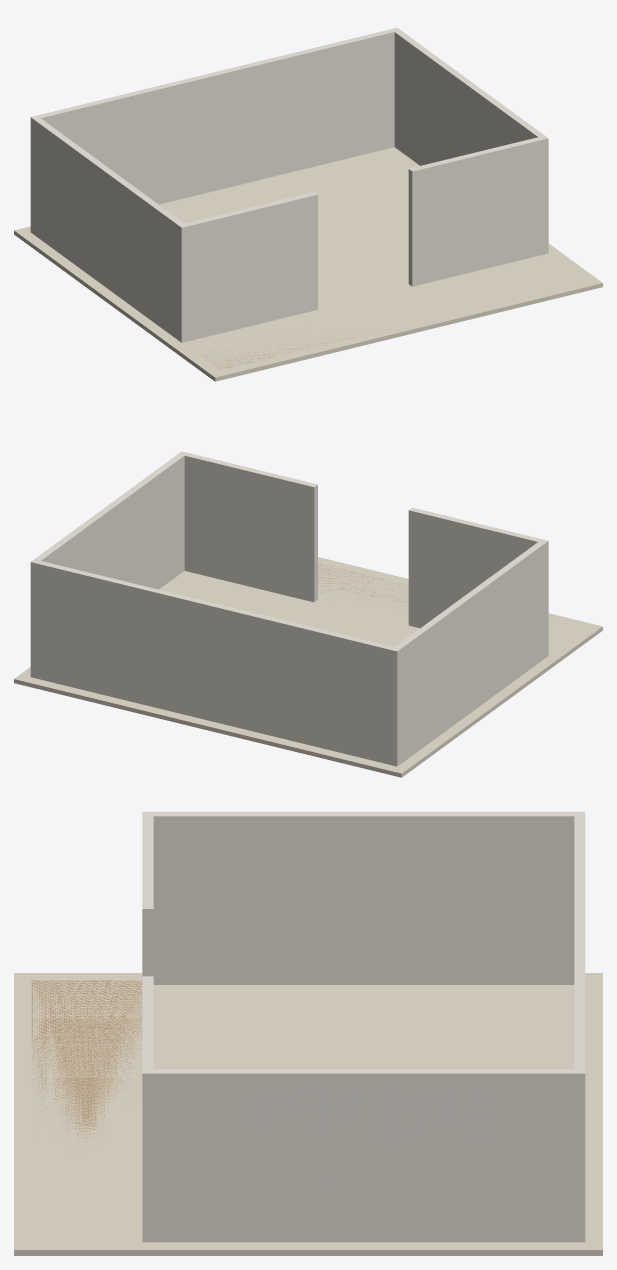
The model's file is events-gatherings-hub.glb.
The picture shows the model from 3 angles, top to bottom: view 1: azimuth 30°, elevation 25°; view 2: azimuth 150°, elevation 25°; view 3: azimuth 270°, elevation 25°; orthographic projection. The views are drawn at different scales.
Parts seen in each view (by area): view 1: stucco, stone; view 2: stucco, stone, timber; view 3: stucco, stone, timber, glass.
Boxes of the visible parts, x1,y1,x2,y2 form: stucco: (30, 27, 548, 342); stone: (14, 147, 602, 381); stucco: (30, 451, 548, 766); stone: (14, 557, 602, 777); timber: (318, 563, 407, 604); stucco: (142, 811, 585, 1242); stone: (14, 973, 602, 1255); timber: (31, 980, 142, 1144); glass: (253, 1090, 496, 1205).
Size of the model in its own units: 14.8 by 6.35 by 13.3.
